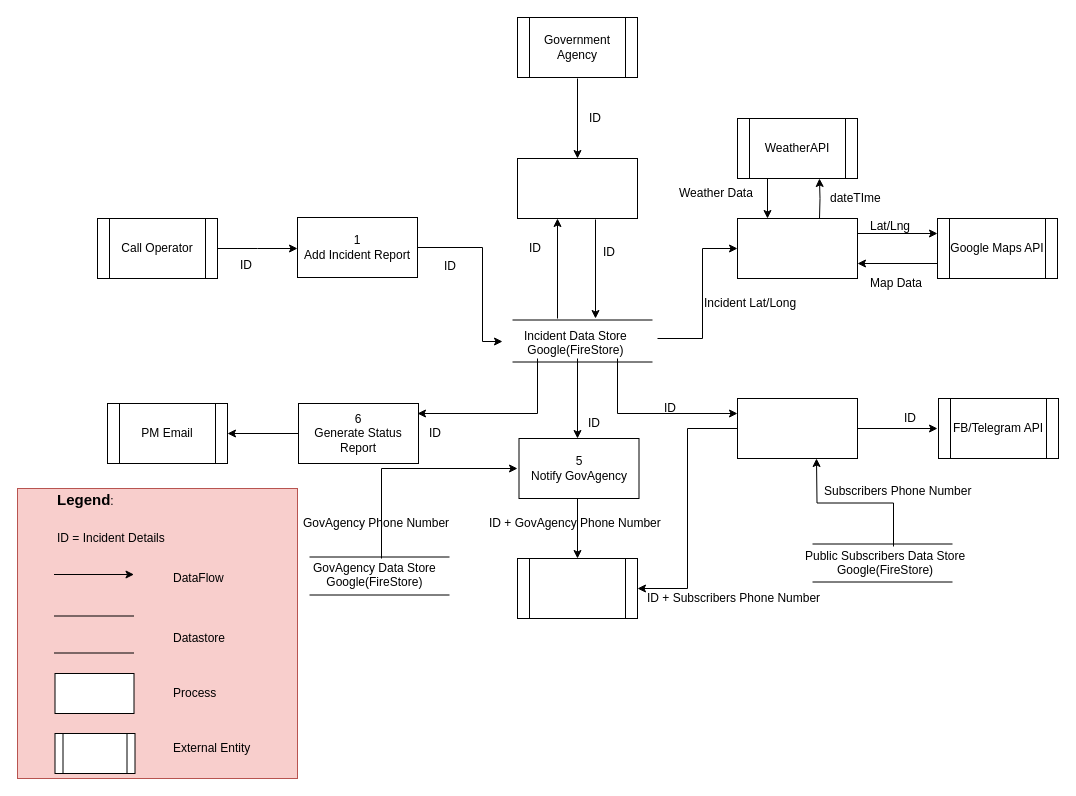
This 1076x796 diagram has some shape labels left out. Here are the shapes that lost their labels. From the top down, the centre of each, then its label:
At [577,188]: "2 Manage Incidents".
At [797,248]: "3 Update Map".
At [797,428]: "4 Notify Public".
At [577,588]: "Twilio SMS API".
